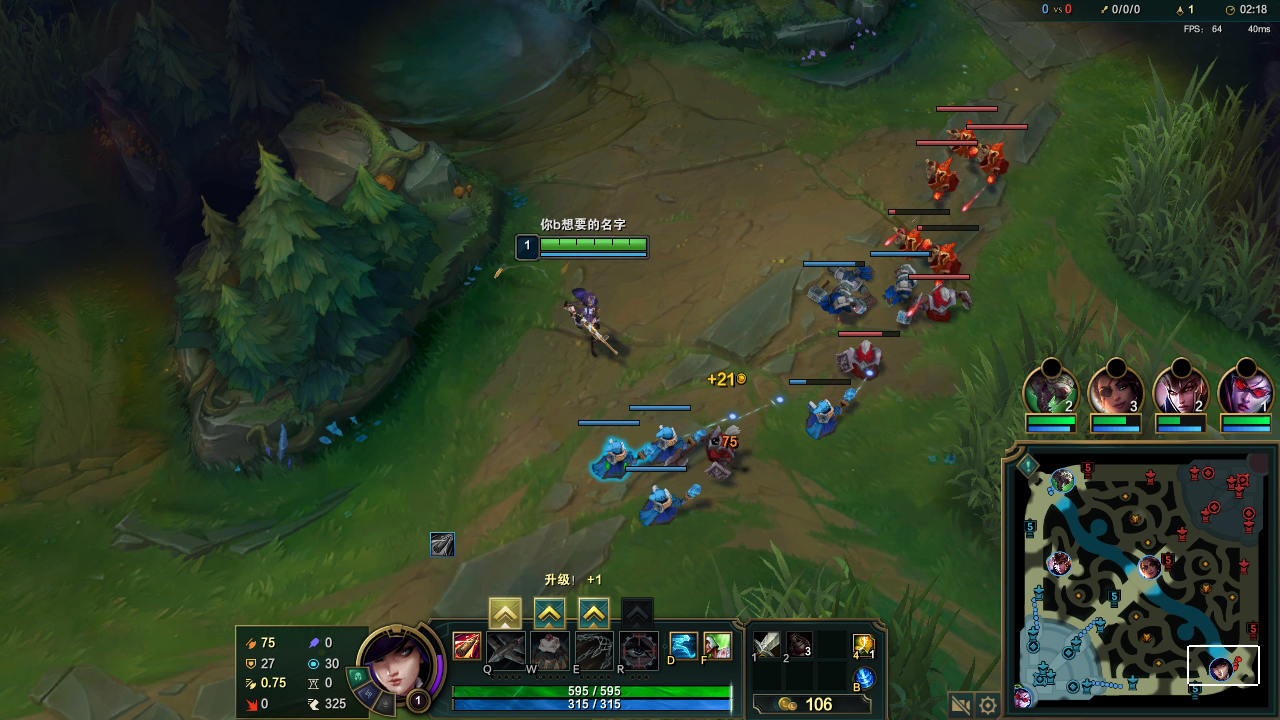DFXB: (920, 286, 964, 321), (845, 341, 883, 373), (928, 243, 966, 274), (982, 142, 1011, 177), (925, 163, 957, 194), (944, 124, 977, 151), (895, 229, 922, 254)
Shenji: (582, 605, 611, 630), (536, 604, 562, 626)
Tuijianshengji: (498, 600, 518, 625)
WFXB: (590, 432, 648, 485), (637, 481, 700, 527), (807, 388, 857, 438), (812, 271, 867, 316), (650, 420, 702, 466), (880, 264, 917, 307)
